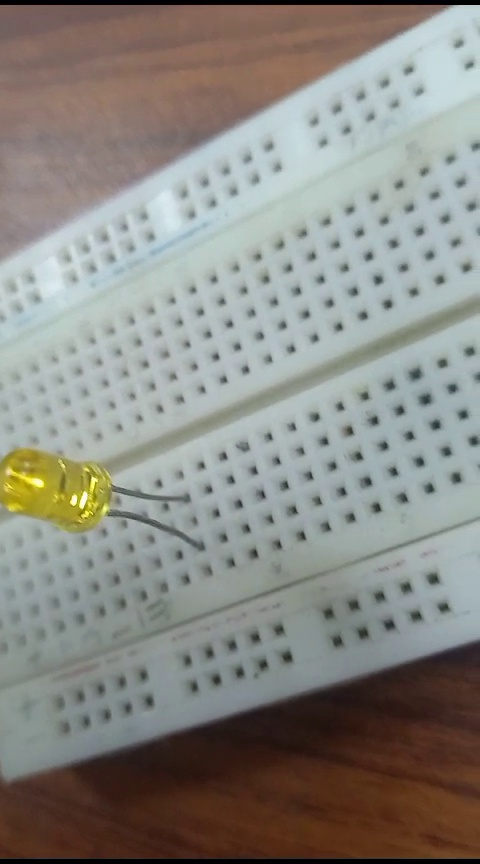LED: (11, 431, 204, 561)
